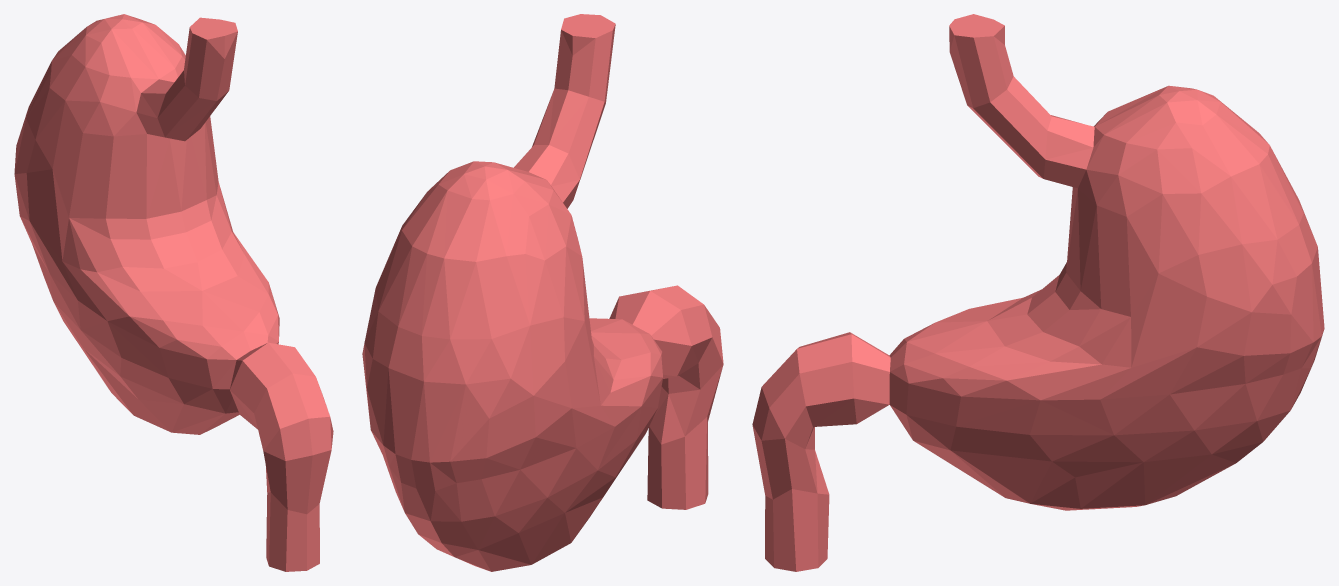
File: Stomach.fbx
3 views of the same model, side by side, from view 1: azimuth 30°, elevation 25°; view 2: azimuth 150°, elevation 25°; view 3: azimuth 270°, elevation 25° (orthographic). The views are drawn at different scales.
Parts seen in each view (by area): view 1: Stomach; view 2: Stomach; view 3: Stomach.
Boxes of the visible parts, bbox=[...] form: Stomach: bbox=[14, 14, 333, 571]; Stomach: bbox=[362, 14, 723, 571]; Stomach: bbox=[752, 14, 1324, 571].
Size of the model in its own units: 54.39 by 146 by 142.
